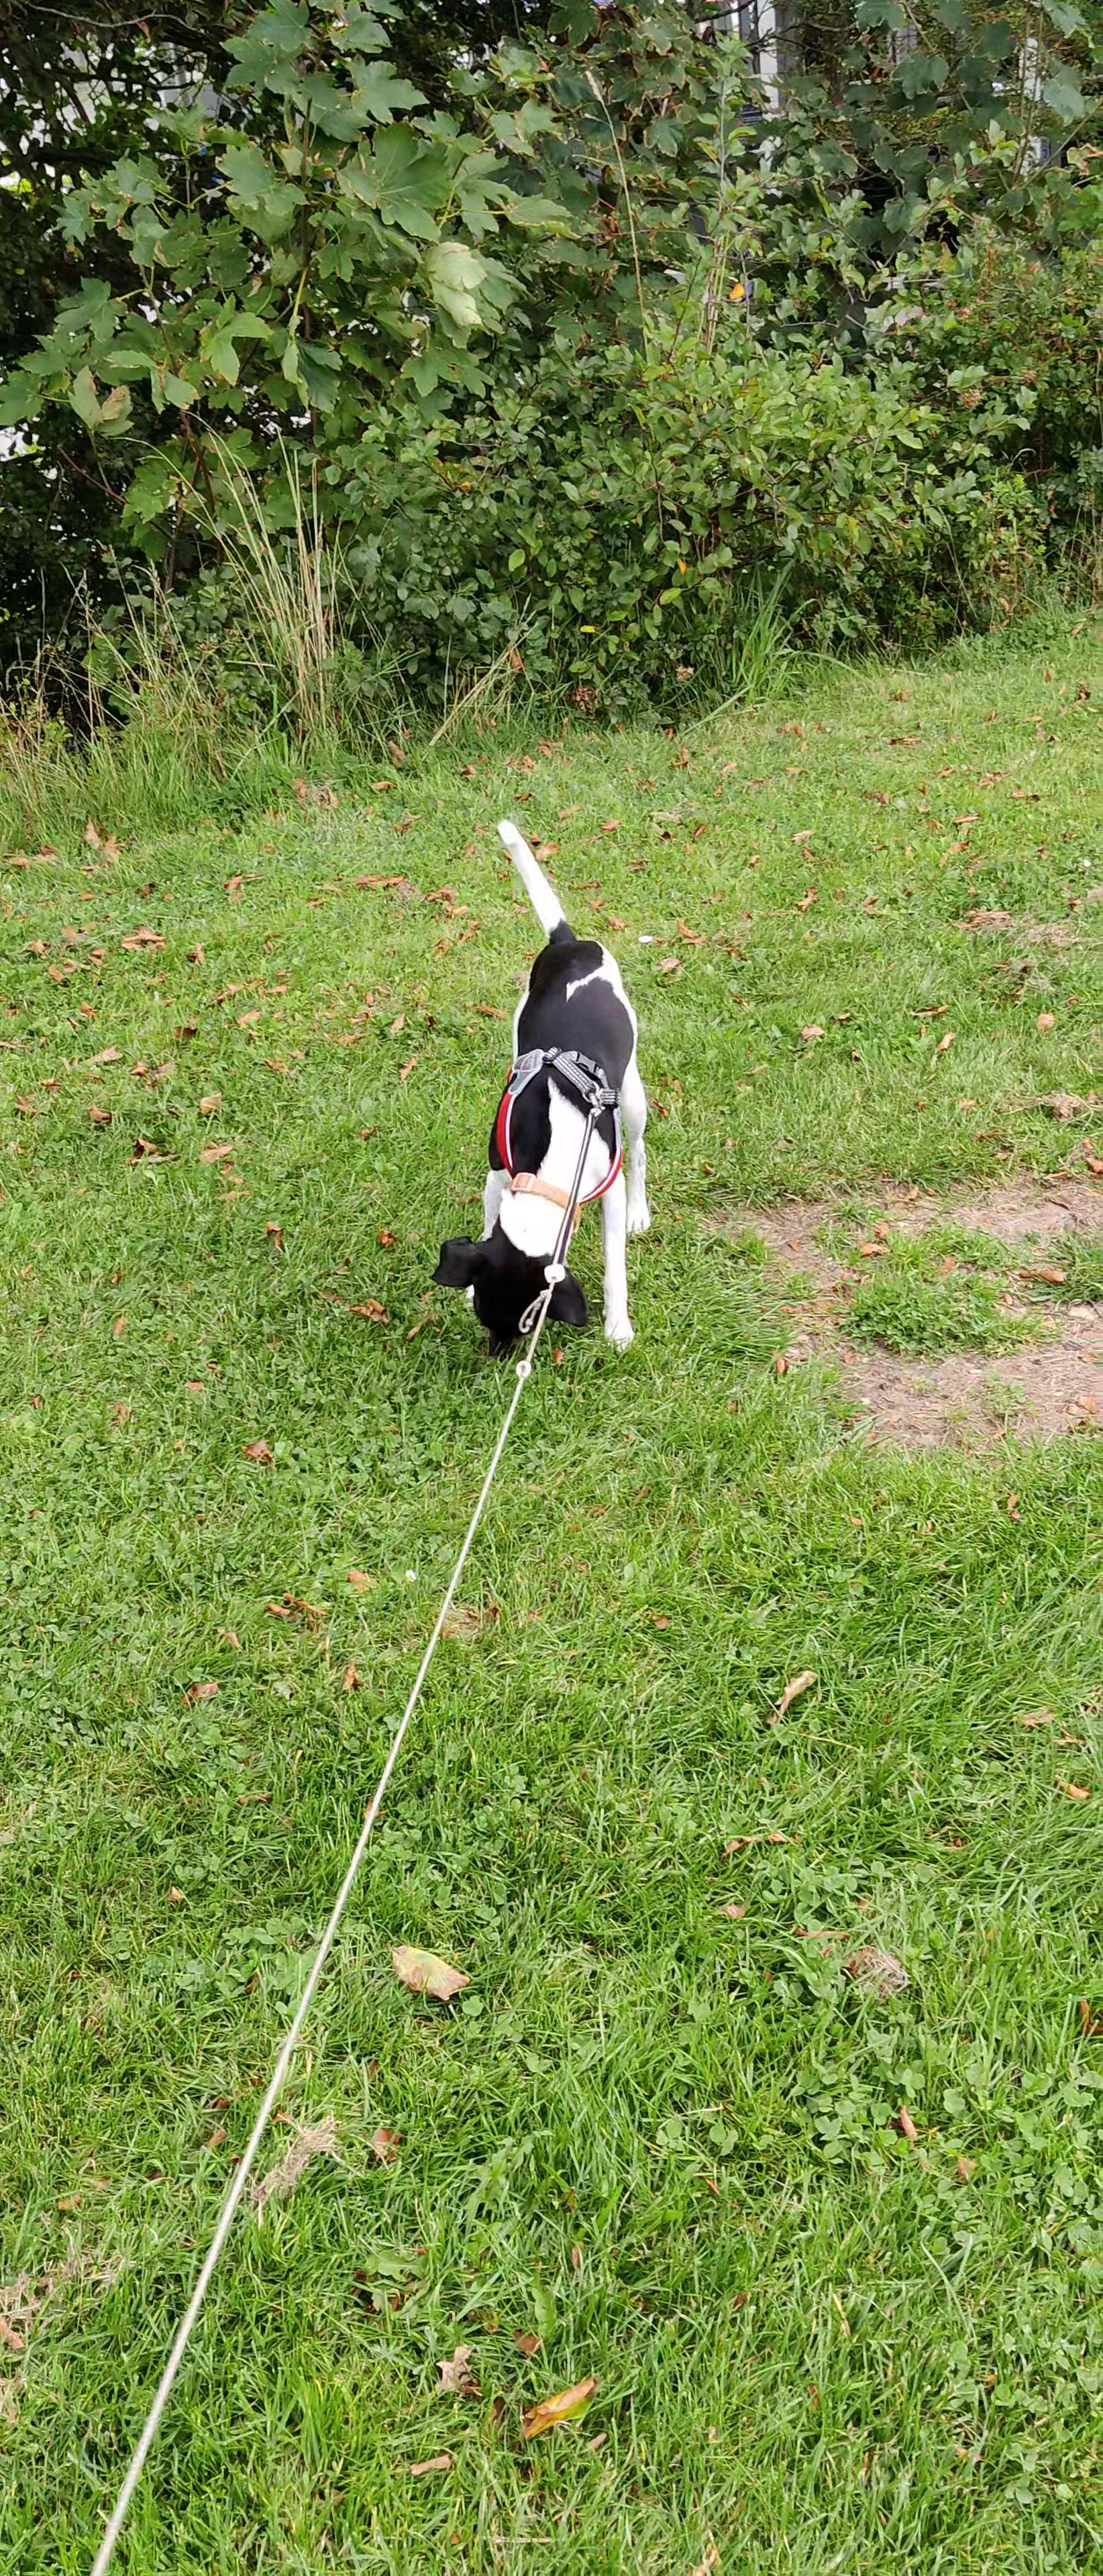Dog: (424, 808, 671, 1382)
